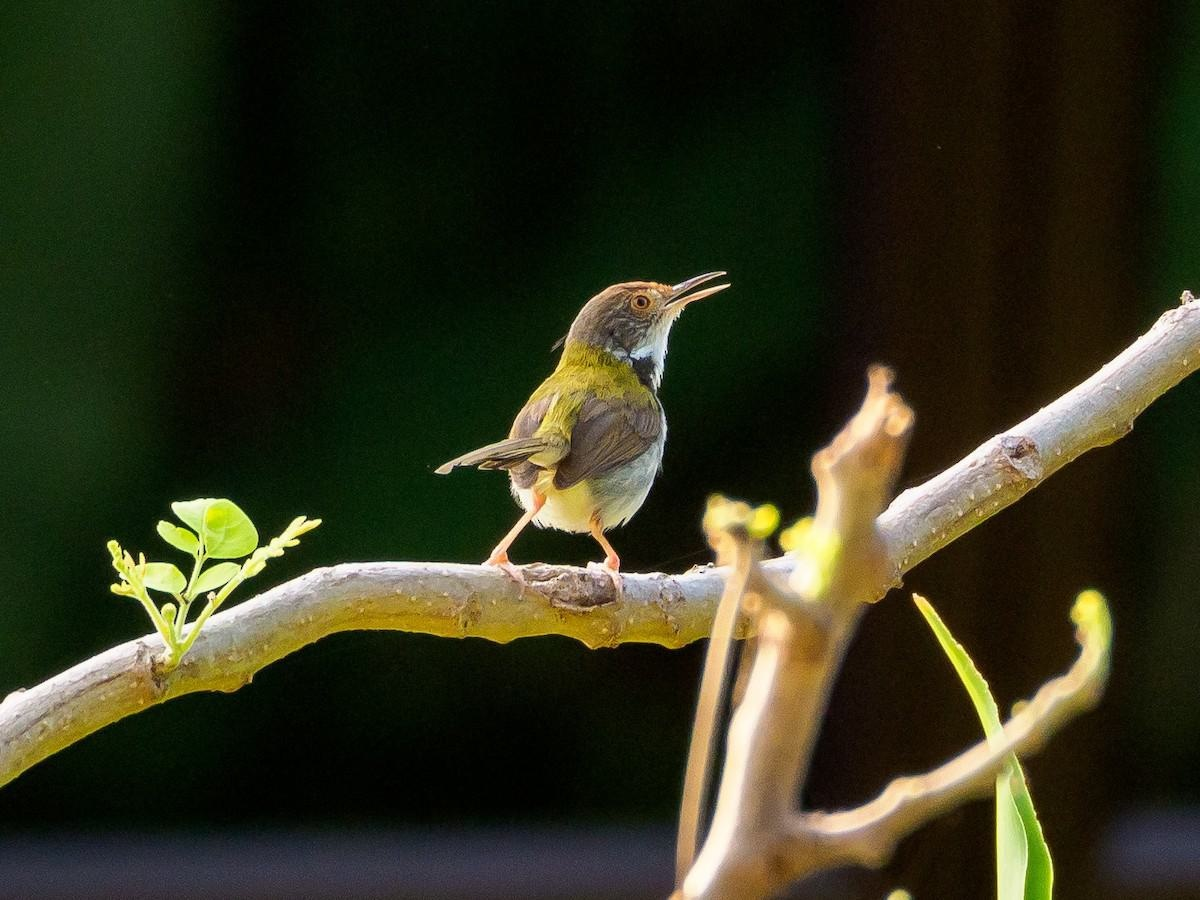tailorbird: (414, 241, 741, 604)
